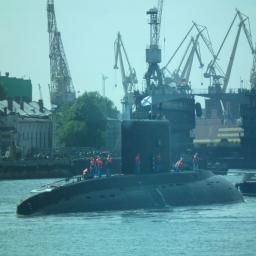submarine: (18, 121, 248, 216)
